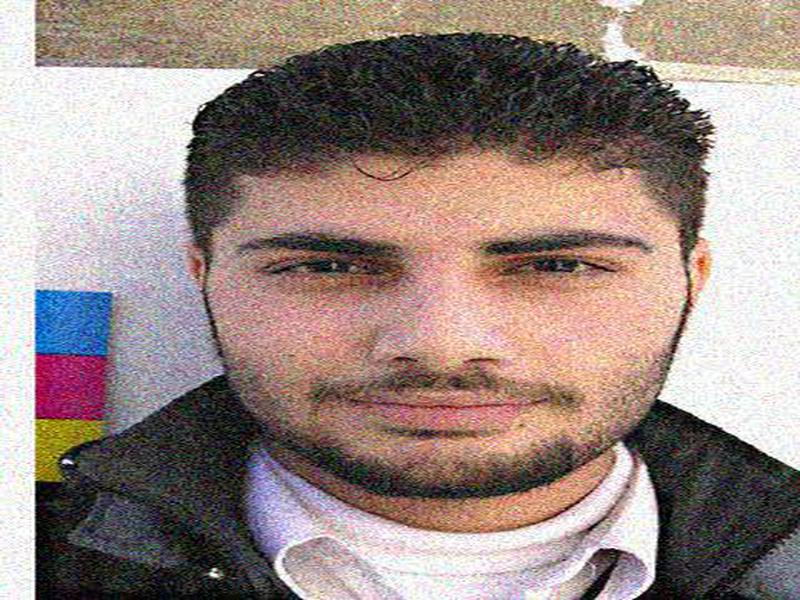without_mask: (206, 144, 687, 501)
